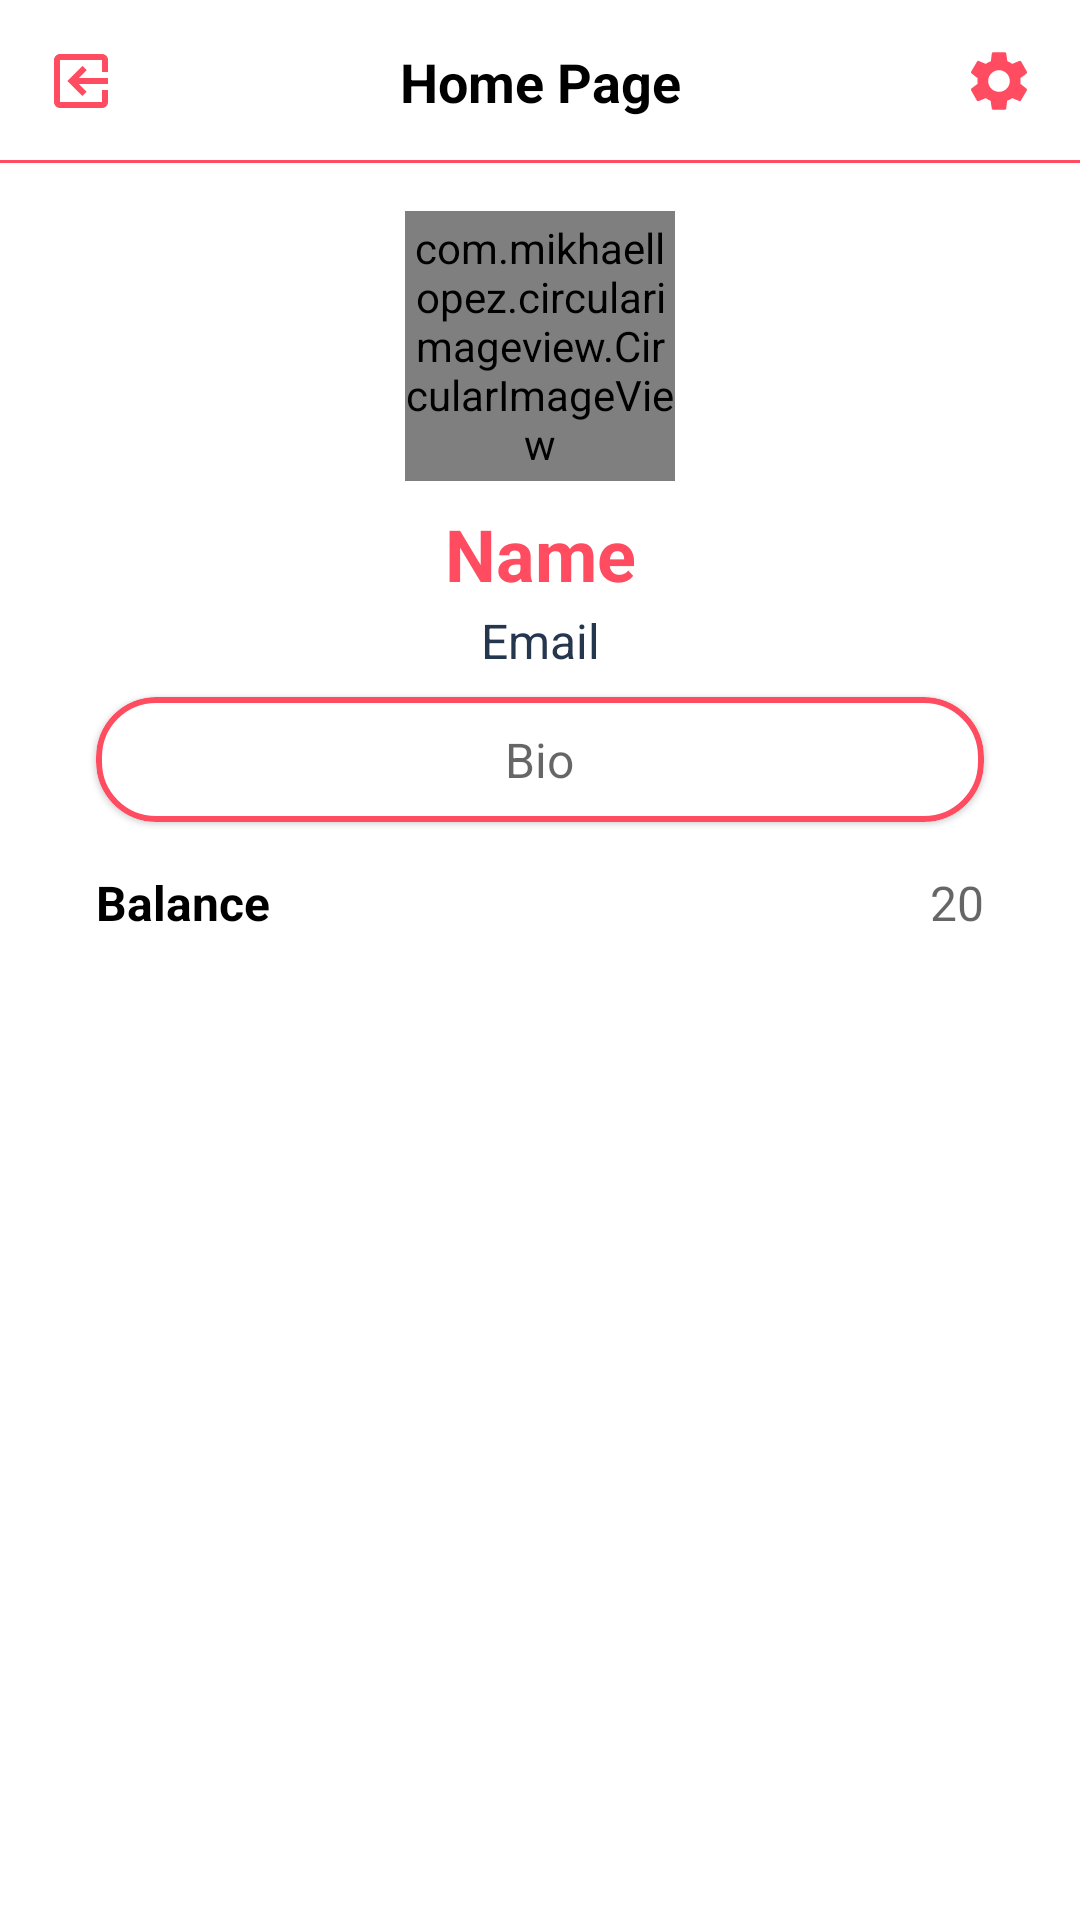

Named icons in this screenshot (1080x1920) and their centers, point (x, y):
settings: point (999, 81)
